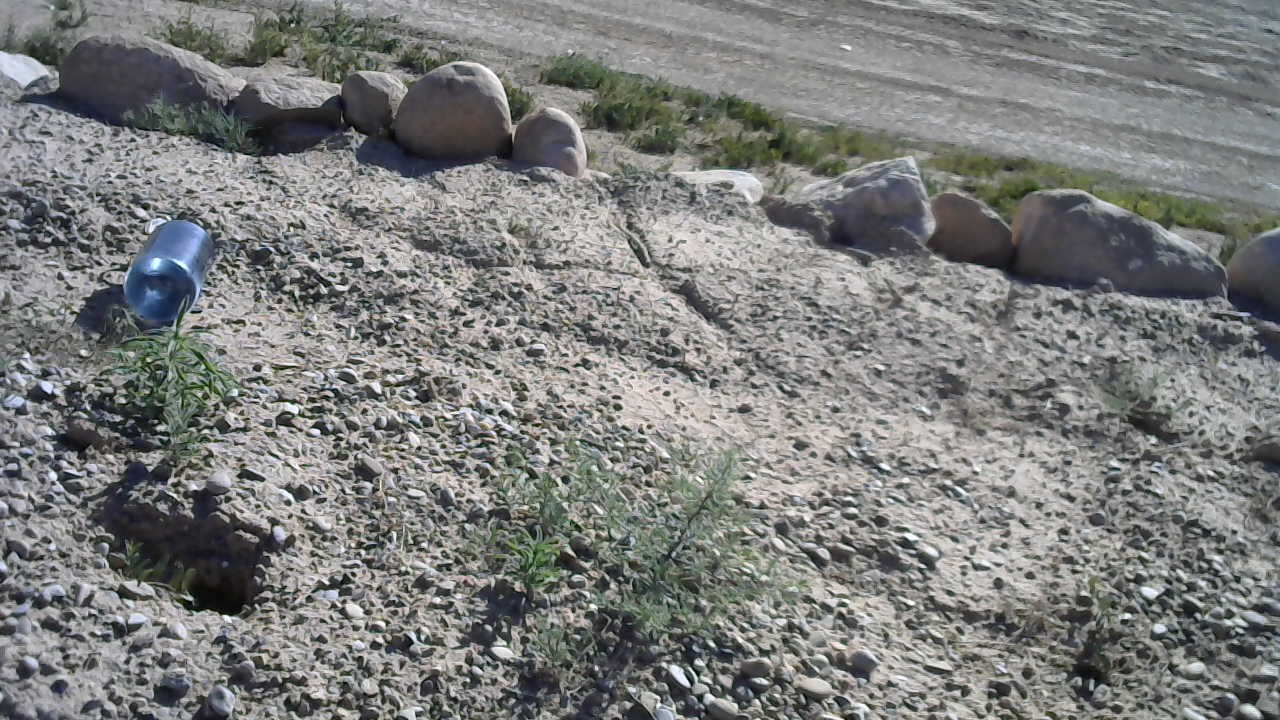bottle: (119, 205, 217, 321)
